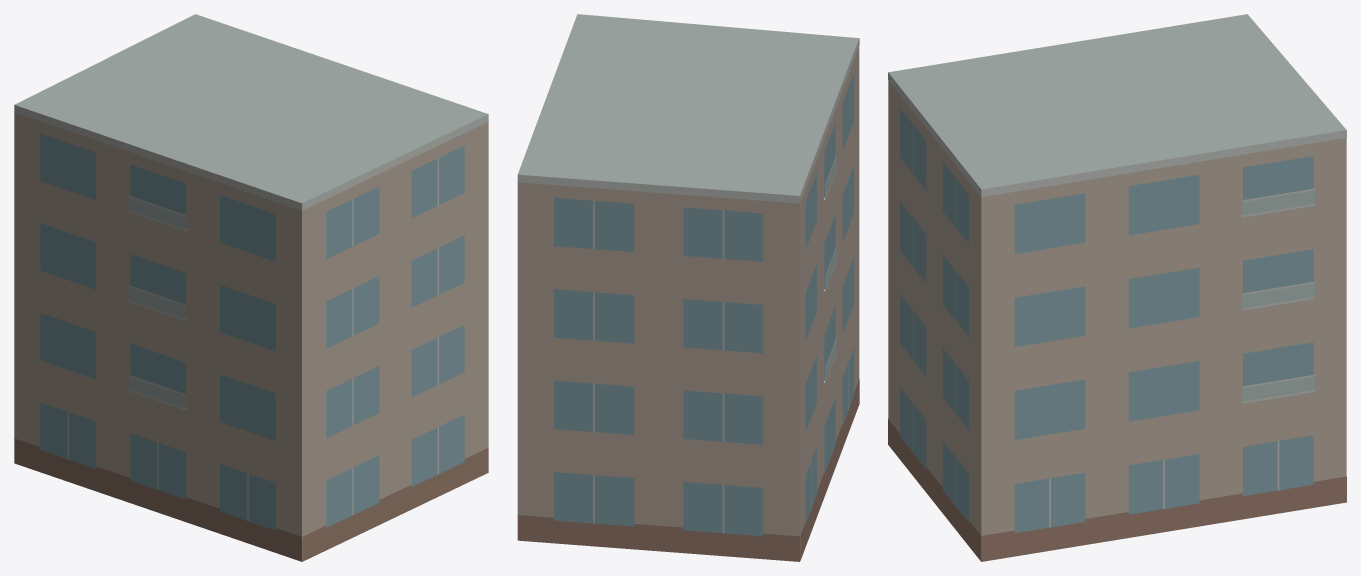
Rendered from survey-upis-32761761.glb.
3 renders of one model, left to right at view 1: azimuth 30°, elevation 25°; view 2: azimuth 150°, elevation 25°; view 3: azimuth 270°, elevation 25°, orthographic. The views are drawn at different scales.
Parts seen in each view (by area): view 1: survey-upis-32761761.tmp; view 2: survey-upis-32761761.tmp; view 3: survey-upis-32761761.tmp.
Boxes of the visible parts, left/top/right/bottom form: survey-upis-32761761.tmp: left=14, top=14, right=488, bottom=561; survey-upis-32761761.tmp: left=517, top=14, right=859, bottom=561; survey-upis-32761761.tmp: left=888, top=14, right=1346, bottom=561.
Bounding box in the file's own units: 11.84 × 11.7 × 13.07.
